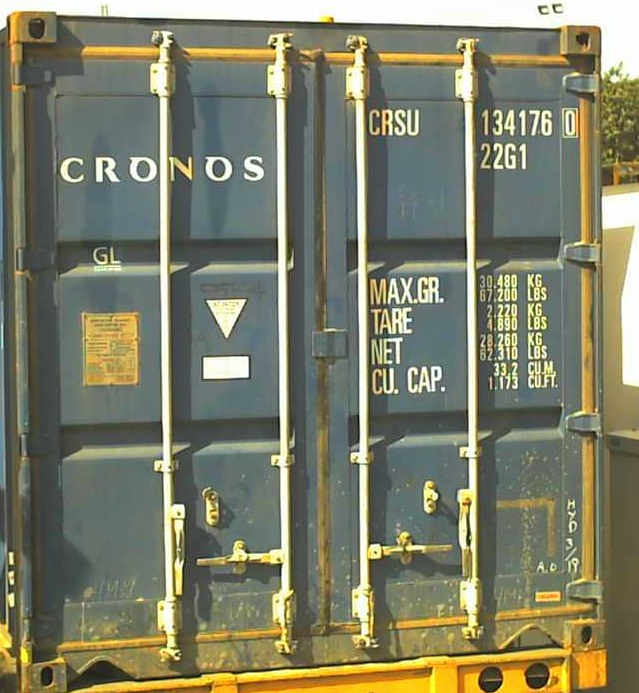container_door: (23, 15, 598, 687)
